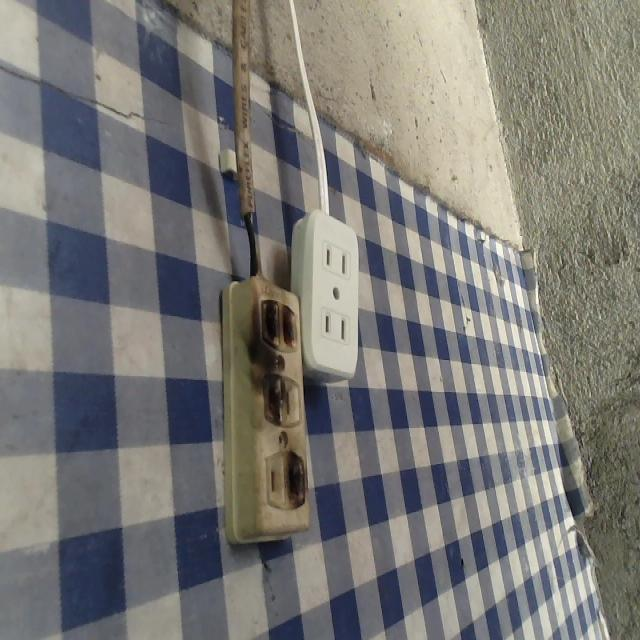-: (245, 289, 299, 356), (278, 444, 310, 509), (257, 368, 287, 432)
